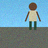person: (25, 3, 40, 30)
